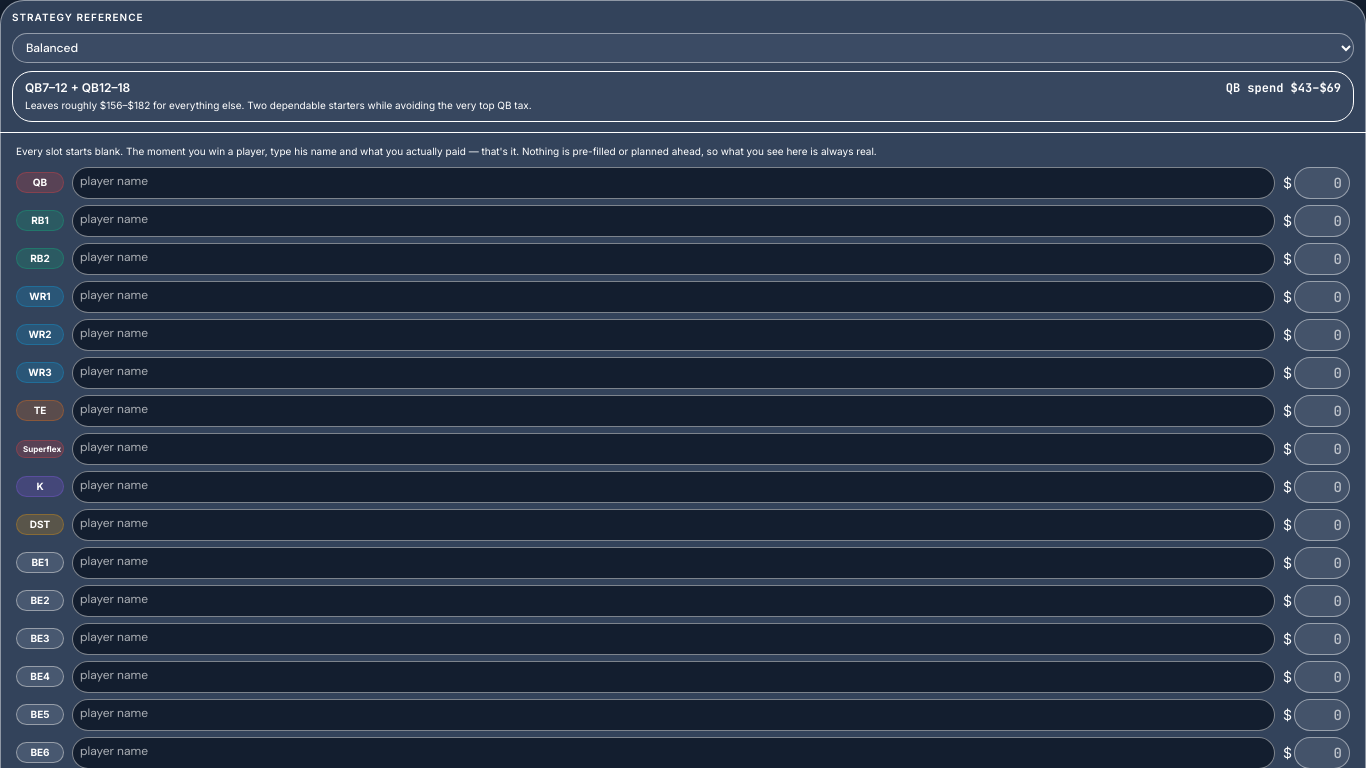
it: PositionBudgetBar live interactions › strategy dropdown is reference-only: picking one changes the guidance text, not the roster
In the field named "QB price paid": (1322, 183) [1294,167,1350,199], type "60"
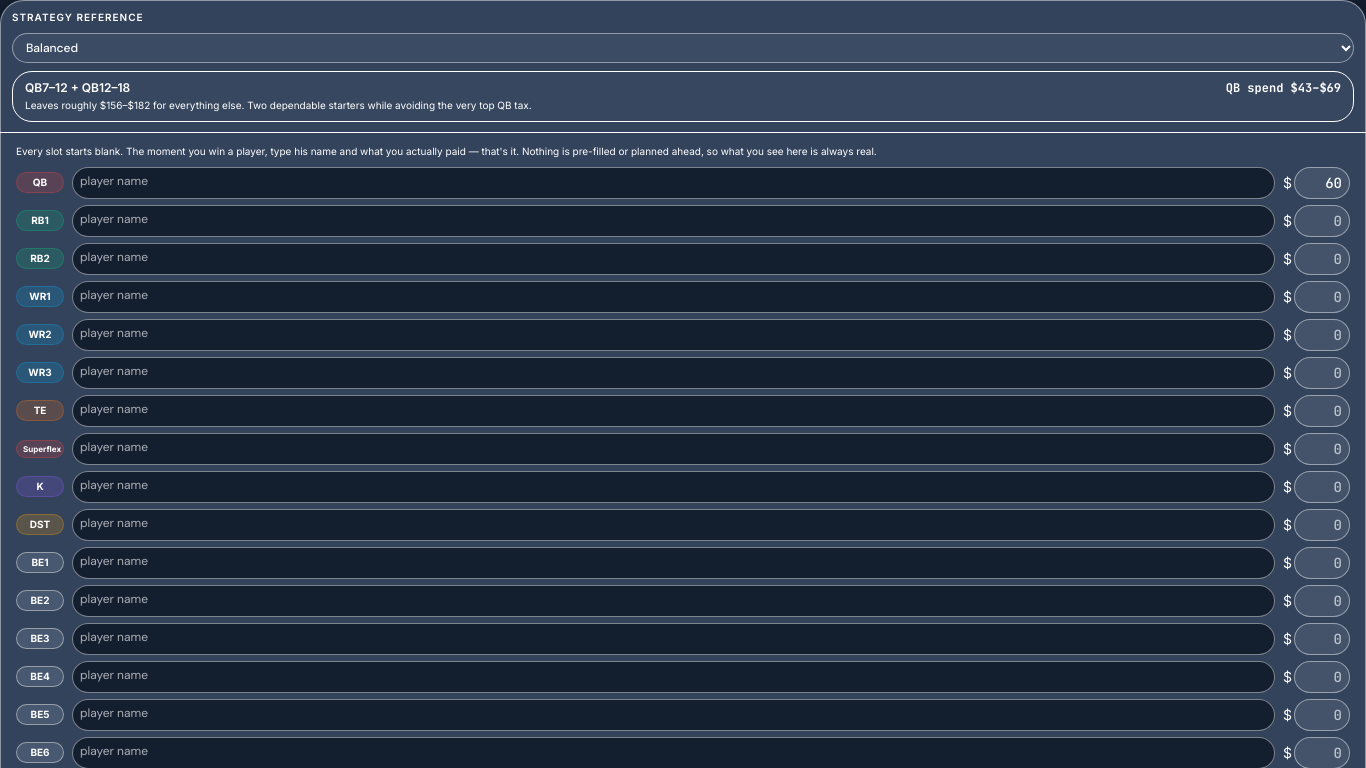
Select "Hero QB" in the dropdown named "Strategy reference": (683, 48) [12,33,1354,63]
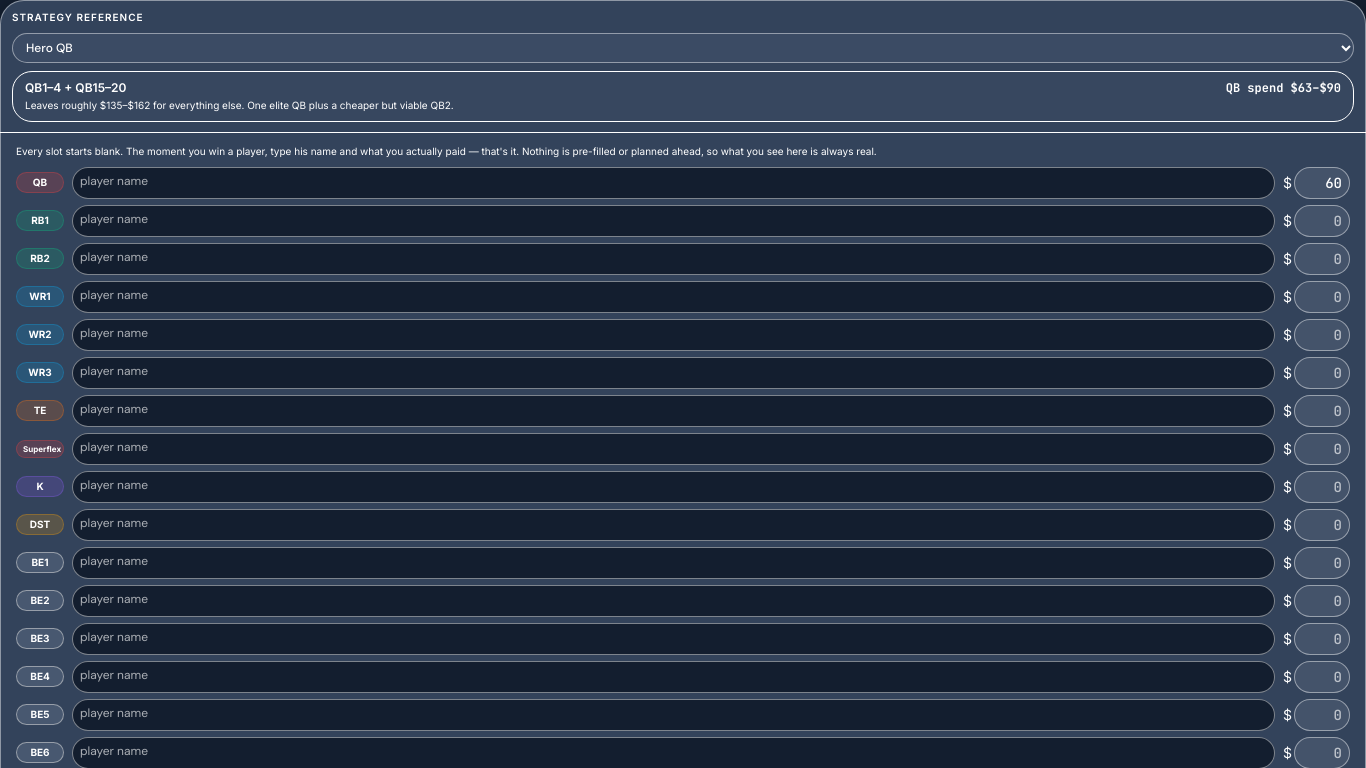
Now the text "QB1–4 + QB15–20" is shown, box [25,80,126,96]
